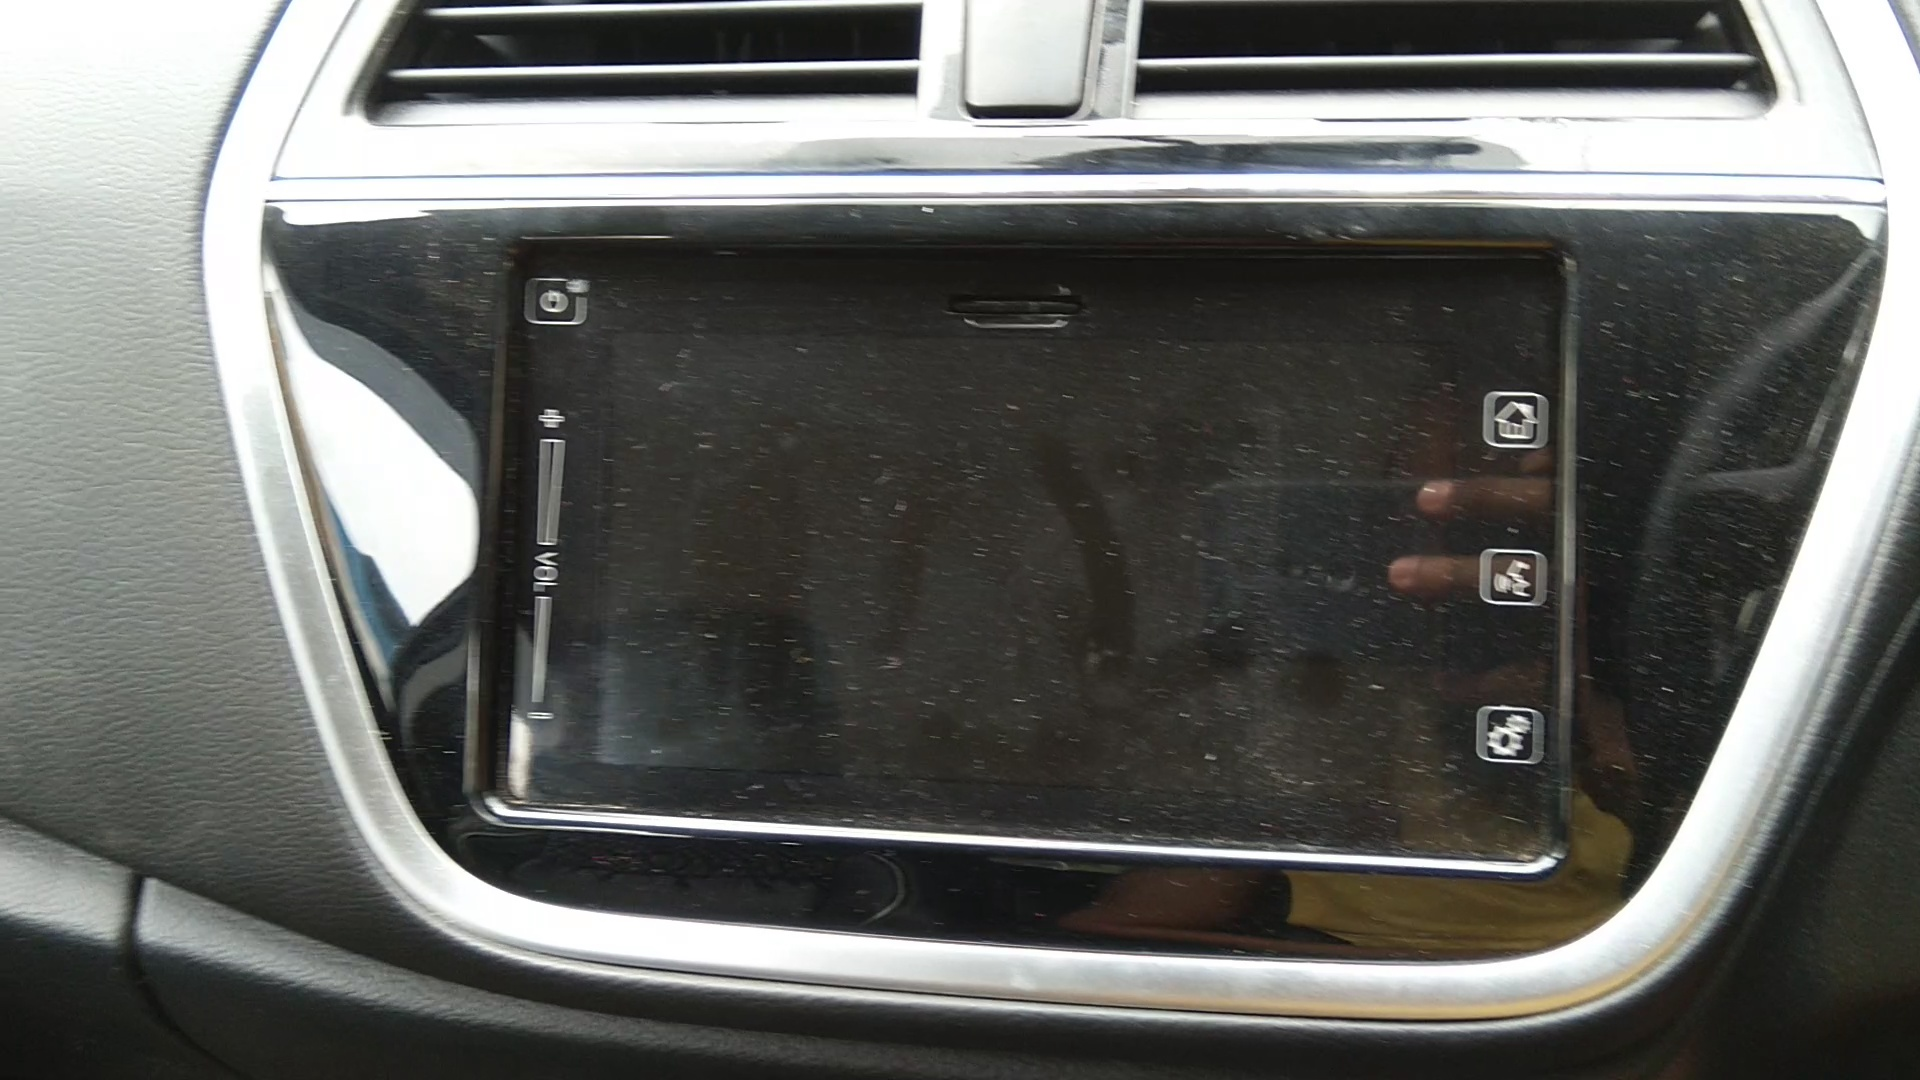touch_infotainment: (440, 220, 1592, 899)
